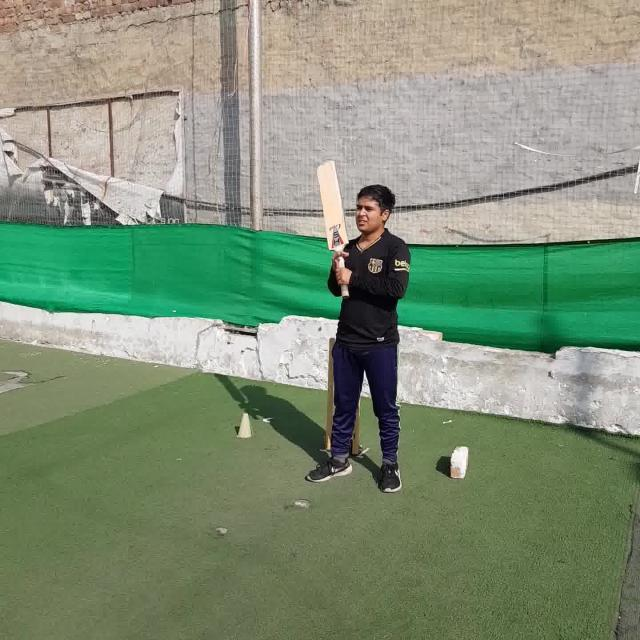bat: (318, 160, 351, 299)
